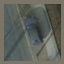car: (22, 13, 42, 45)
